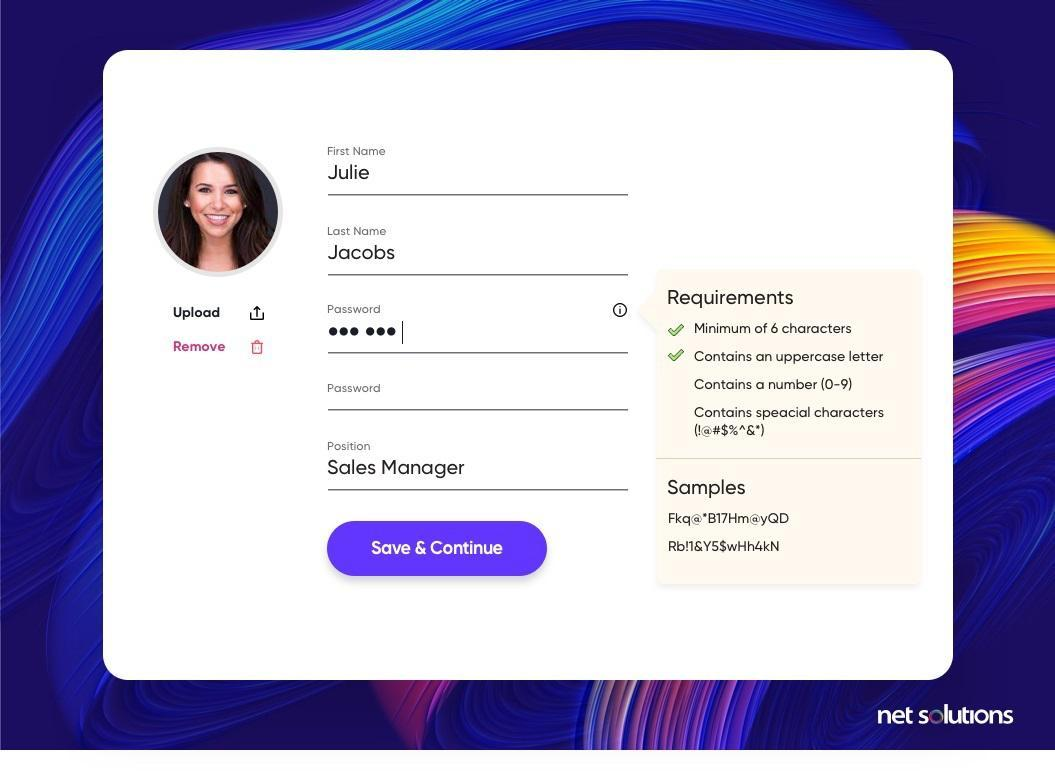button: (328, 520, 550, 579)
icon: (613, 302, 631, 320), (250, 306, 266, 322), (252, 338, 265, 357)
label: (666, 287, 795, 308), (326, 143, 389, 159), (324, 302, 384, 318), (326, 226, 390, 240), (327, 382, 383, 396), (173, 340, 228, 354), (171, 306, 223, 320), (324, 439, 375, 453)
